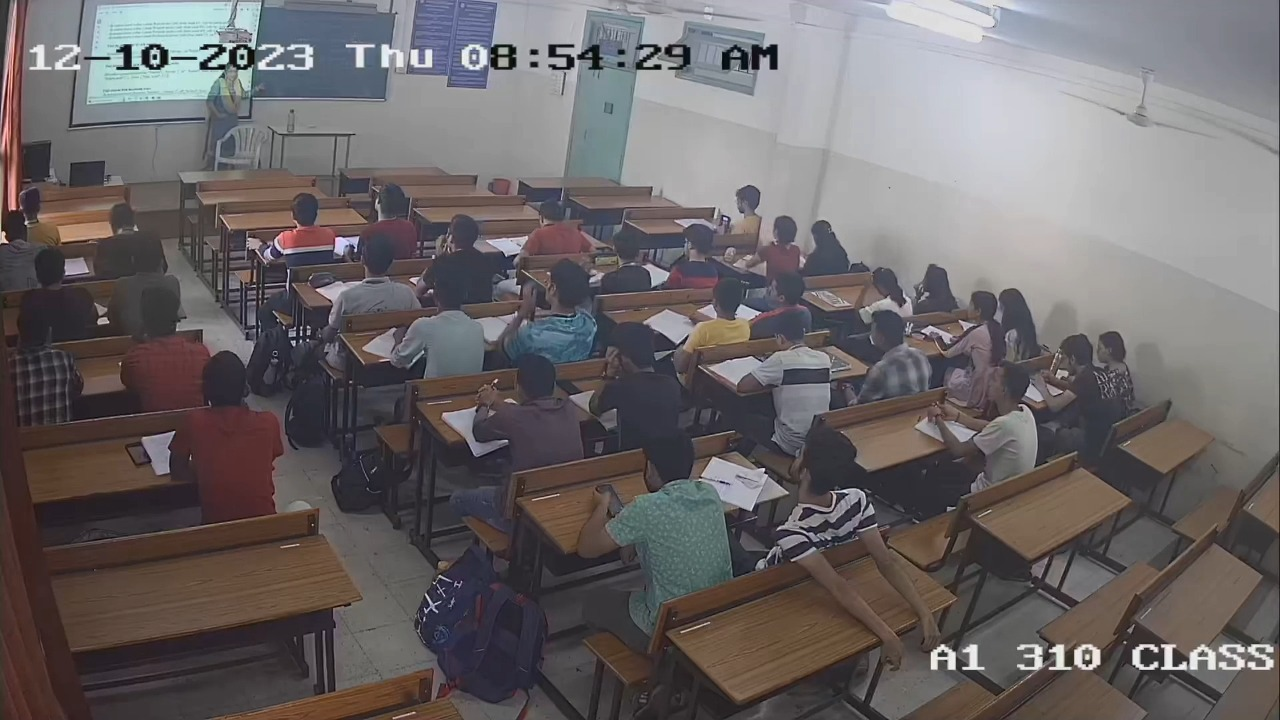cell-phones: (596, 480, 626, 523), (119, 439, 153, 468), (553, 376, 585, 396), (592, 253, 620, 267)
person: (576, 426, 735, 616), (162, 348, 287, 521), (478, 355, 587, 461), (598, 231, 652, 292)
